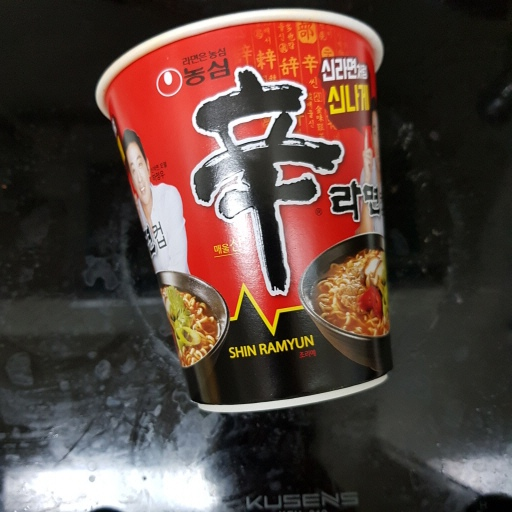Paper_1: (94, 10, 395, 416)
